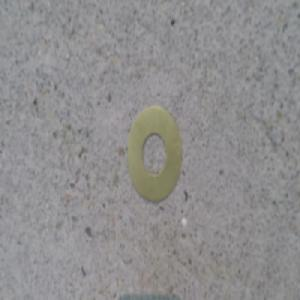Washer: (126, 105, 183, 207)
